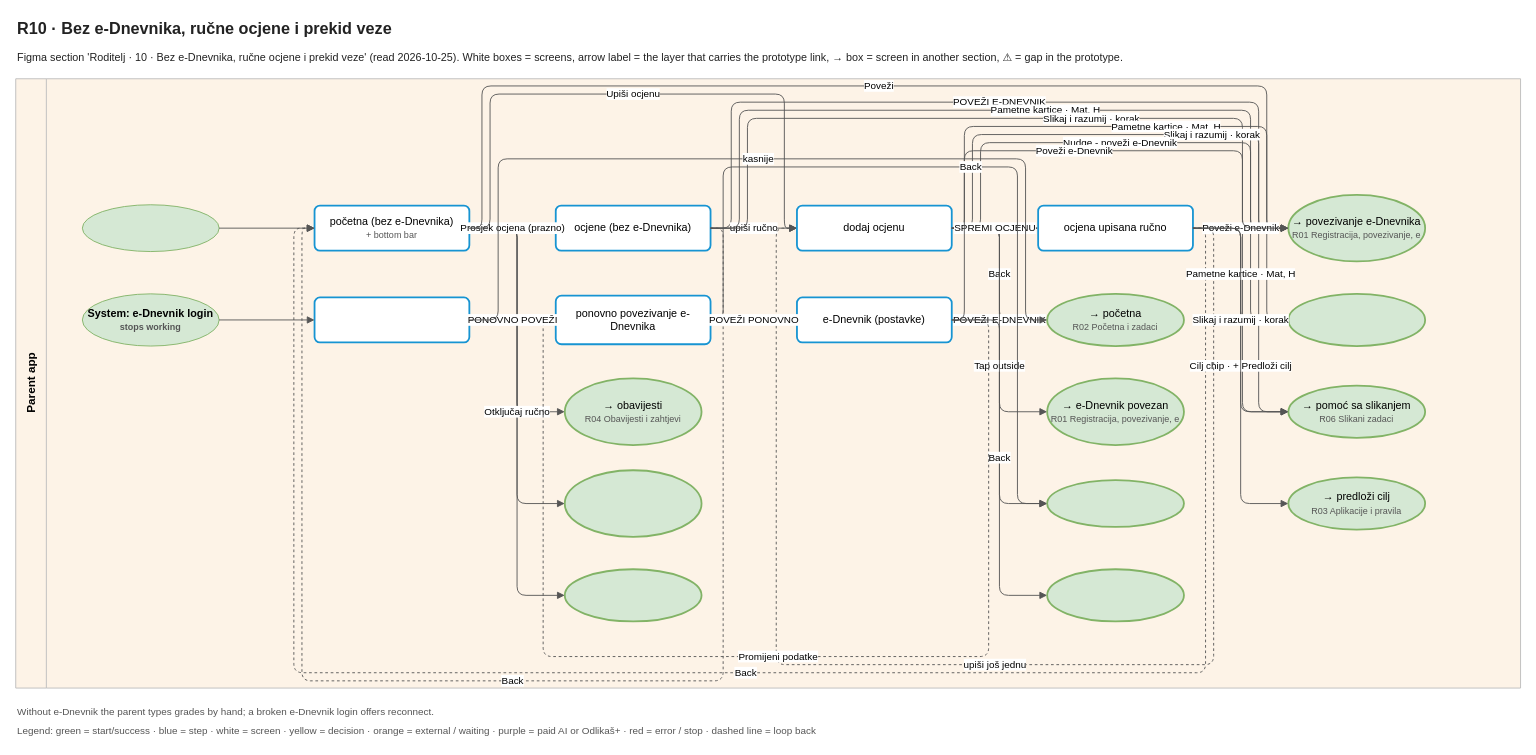
This 1536x755 diagram has some shape labels left out. The centre of each missing label's shape, as x and y in pixels:
e-Dnevnik prekinut: [391,319]
Parent skipped e-Dnevnik: [150,228]
← Back: [1115,503]
→ dodaj dijete R01 Registracija, povezivanje, e: [632,503]
→ pametne obavijesti R05 Pametne obavijesti: [1356,319]
→ postavke R07 Izvještaj i postavke: [1115,595]
→ ručno otključano R02 Početna i zadaci: [632,595]
